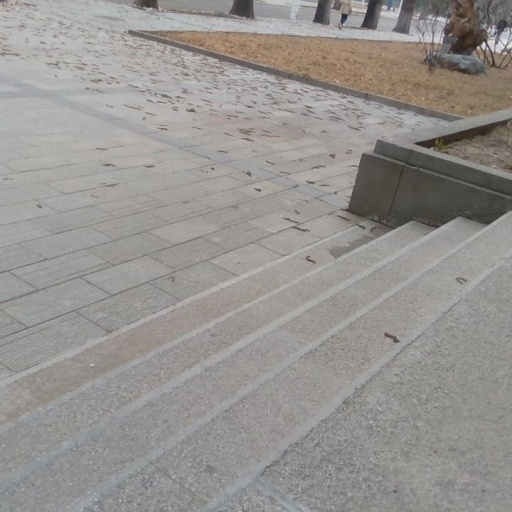Stairs: (0, 212, 512, 512)
